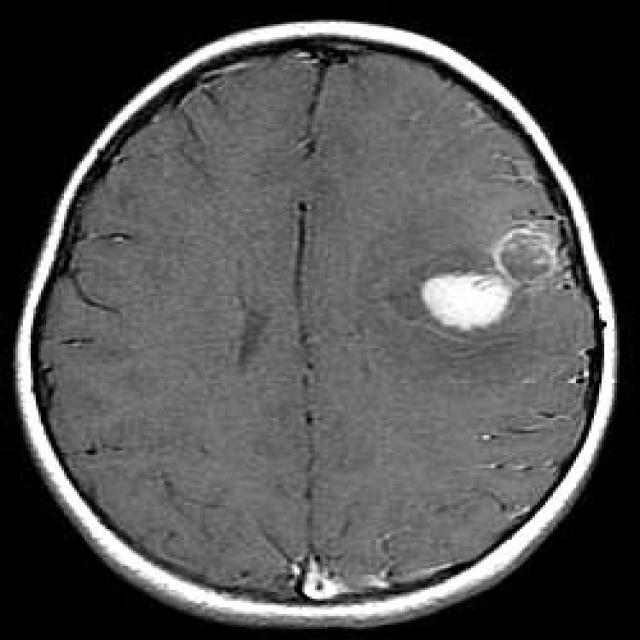Tumor-Cell: (396, 248, 522, 337)
